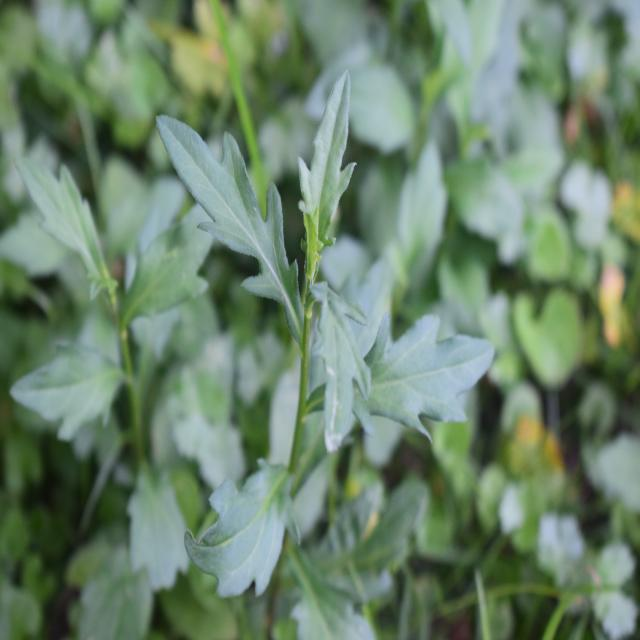Indian aster: (177, 93, 462, 530)
